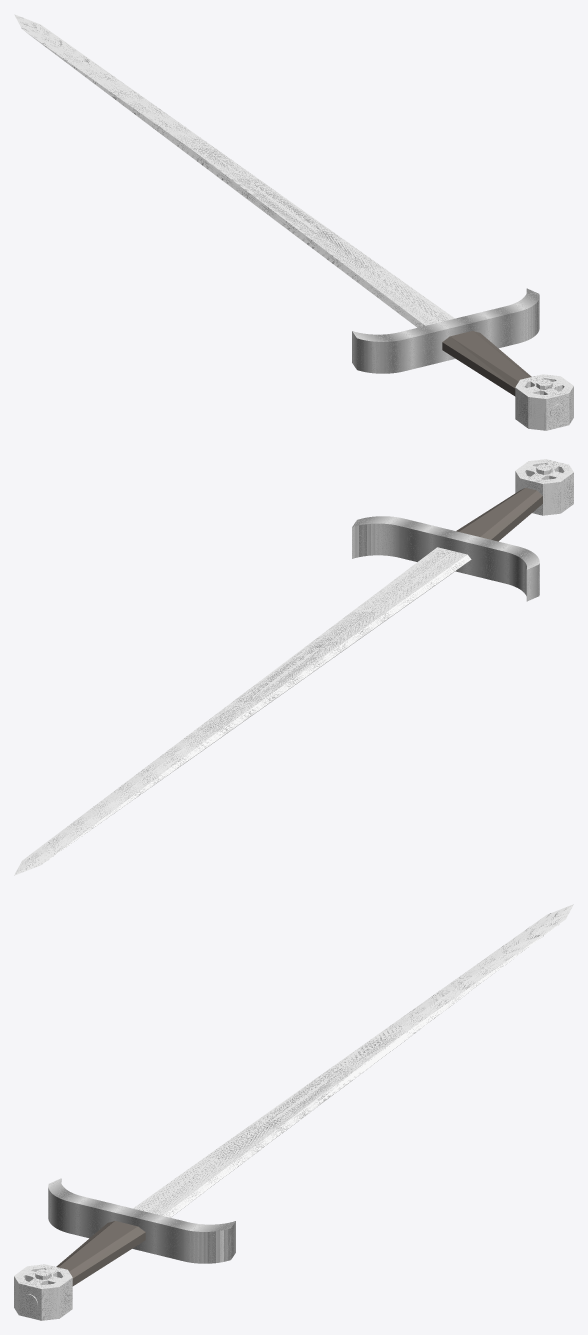
File: onehandedsword.fbx
3 renders of one model, top to bottom at view 1: azimuth 30°, elevation 25°; view 2: azimuth 150°, elevation 25°; view 3: azimuth 330°, elevation 25°, orthographic.
Parts seen in each view (by area): view 1: instance_0, instance_1, group_0, instance_2; view 2: instance_0, instance_1, instance_2, group_0; view 3: instance_0, instance_1, group_0, instance_2.
Part boxes in pixels (x1,y1,x2,y2): instance_0: (14, 14, 454, 327); instance_1: (352, 288, 539, 373); group_0: (442, 331, 531, 396); instance_2: (515, 374, 573, 430); instance_0: (14, 547, 471, 875); instance_1: (352, 516, 539, 601); instance_2: (515, 459, 573, 515); group_0: (456, 488, 542, 541); instance_0: (133, 904, 573, 1217); instance_1: (48, 1178, 235, 1263); group_0: (56, 1221, 145, 1286); instance_2: (14, 1264, 72, 1320).
Size of the model in its own units: 24 by 5 by 124.
